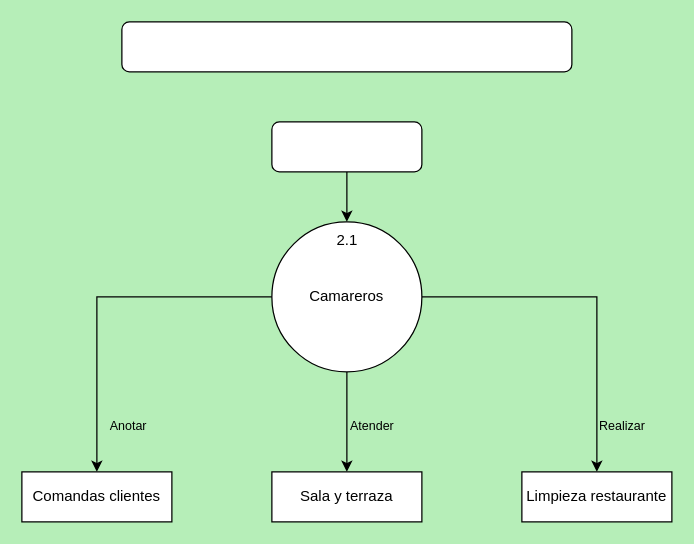
Some shapes in this 694 by 544 pixel diagram are drawn without their labels. The centre of each missing label's shape, as x and y in pixels:
Diagrama 2: Personal de sala: the point at 346,46
Personal de sala: the point at 346,146
